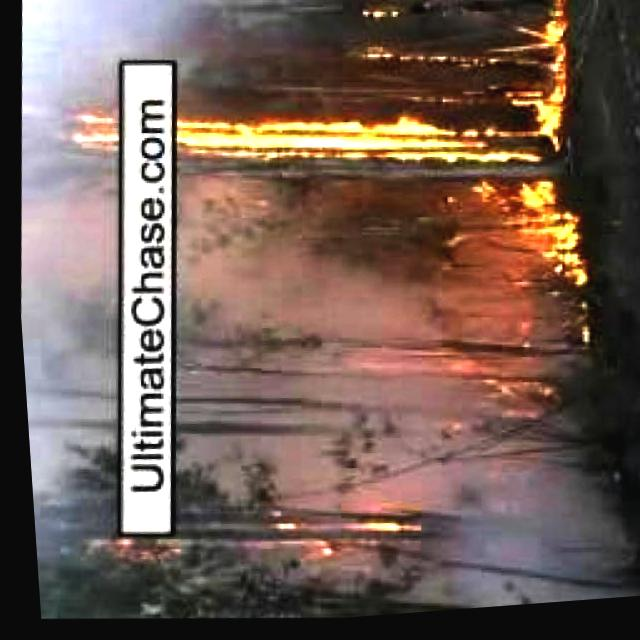helmet: (165, 94, 561, 182), (460, 191, 585, 305), (523, 0, 575, 88)
